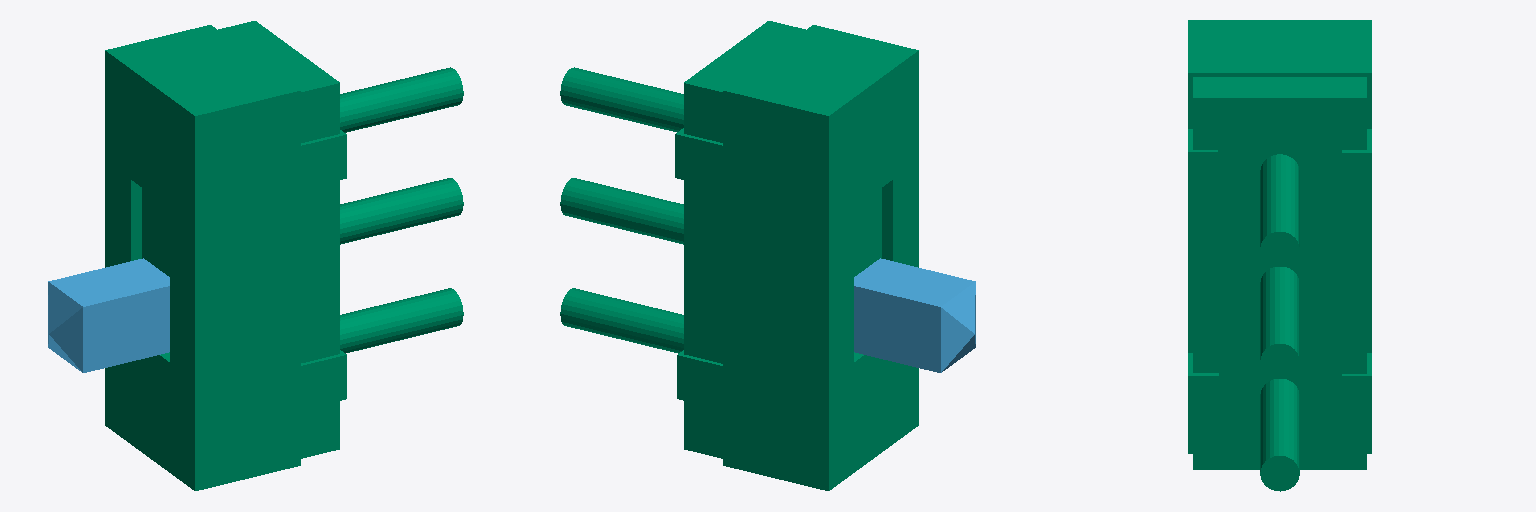
The robot description file, URDF, robot "partnet_228b41e91b3eac5e6eed87081bea555c":
<?xml version="1.0" ?>
<robot name="partnet_228b41e91b3eac5e6eed87081bea555c">
	<link name="base"/>
	<link name="link_0">
		<visual name="switch-1">
			<origin xyz="0 0 0"/>
			<geometry>
				<mesh filename="textured_objs/original-14.obj" scale="0.1 0.1 0.1"/>
			</geometry>
		</visual>
		<collision>
			<origin xyz="0 0 0"/>
			<geometry>
				<mesh filename="textured_objs/original-14.obj" scale="0.1 0.1 0.1"/>
			</geometry>
		</collision>
	</link>
	<joint name="joint_0" type="prismatic">
		<origin xyz="0 0 0"/>
		<axis xyz="0 1 0"/>
		<child link="link_0"/>
		<parent link="link_1"/>
		<limit lower="0" upper="0.2959999999999998"/>
	</joint>
	<link name="link_1">
		<visual name="base_body-2">
			<origin xyz="0 0 0"/>
			<geometry>
				<mesh filename="textured_objs/original-4.obj" scale="0.1 0.1 0.1"/>
			</geometry>
		</visual>
		<visual name="base_body-2">
			<origin xyz="0 0 0"/>
			<geometry>
				<mesh filename="textured_objs/original-3.obj" scale="0.1 0.1 0.1"/>
			</geometry>
		</visual>
		<visual name="base_body-2">
			<origin xyz="0 0 0"/>
			<geometry>
				<mesh filename="textured_objs/original-2.obj" scale="0.1 0.1 0.1"/>
			</geometry>
		</visual>
		<visual name="base_body-2">
			<origin xyz="0 0 0"/>
			<geometry>
				<mesh filename="textured_objs/original-8.obj" scale="0.1 0.1 0.1"/>
			</geometry>
		</visual>
		<visual name="base_body-2">
			<origin xyz="0 0 0"/>
			<geometry>
				<mesh filename="textured_objs/original-13.obj" scale="0.1 0.1 0.1"/>
			</geometry>
		</visual>
		<visual name="base_body-2">
			<origin xyz="0 0 0"/>
			<geometry>
				<mesh filename="textured_objs/original-9.obj" scale="0.1 0.1 0.1"/>
			</geometry>
		</visual>
		<visual name="base_body-2">
			<origin xyz="0 0 0"/>
			<geometry>
				<mesh filename="textured_objs/original-5.obj" scale="0.1 0.1 0.1"/>
			</geometry>
		</visual>
		<visual name="base_body-2">
			<origin xyz="0 0 0"/>
			<geometry>
				<mesh filename="textured_objs/original-6.obj" scale="0.1 0.1 0.1"/>
			</geometry>
		</visual>
		<visual name="base_body-2">
			<origin xyz="0 0 0"/>
			<geometry>
				<mesh filename="textured_objs/original-11.obj" scale="0.1 0.1 0.1"/>
			</geometry>
		</visual>
		<visual name="base_body-2">
			<origin xyz="0 0 0"/>
			<geometry>
				<mesh filename="textured_objs/original-12.obj" scale="0.1 0.1 0.1"/>
			</geometry>
		</visual>
		<visual name="base_body-2">
			<origin xyz="0 0 0"/>
			<geometry>
				<mesh filename="textured_objs/original-7.obj" scale="0.1 0.1 0.1"/>
			</geometry>
		</visual>
		<visual name="base_body-2">
			<origin xyz="0 0 0"/>
			<geometry>
				<mesh filename="textured_objs/original-1.obj" scale="0.1 0.1 0.1"/>
			</geometry>
		</visual>
		<visual name="base_body-2">
			<origin xyz="0 0 0"/>
			<geometry>
				<mesh filename="textured_objs/original-10.obj" scale="0.1 0.1 0.1"/>
			</geometry>
		</visual>
		<collision>
			<origin xyz="0 0 0"/>
			<geometry>
				<mesh filename="textured_objs/original-4.obj" scale="0.1 0.1 0.1"/>
			</geometry>
		</collision>
		<collision>
			<origin xyz="0 0 0"/>
			<geometry>
				<mesh filename="textured_objs/original-3.obj" scale="0.1 0.1 0.1"/>
			</geometry>
		</collision>
		<collision>
			<origin xyz="0 0 0"/>
			<geometry>
				<mesh filename="textured_objs/original-2.obj" scale="0.1 0.1 0.1"/>
			</geometry>
		</collision>
		<collision>
			<origin xyz="0 0 0"/>
			<geometry>
				<mesh filename="textured_objs/original-8.obj" scale="0.1 0.1 0.1"/>
			</geometry>
		</collision>
		<collision>
			<origin xyz="0 0 0"/>
			<geometry>
				<mesh filename="textured_objs/original-13.obj" scale="0.1 0.1 0.1"/>
			</geometry>
		</collision>
		<collision>
			<origin xyz="0 0 0"/>
			<geometry>
				<mesh filename="textured_objs/original-9.obj" scale="0.1 0.1 0.1"/>
			</geometry>
		</collision>
		<collision>
			<origin xyz="0 0 0"/>
			<geometry>
				<mesh filename="textured_objs/original-5.obj" scale="0.1 0.1 0.1"/>
			</geometry>
		</collision>
		<collision>
			<origin xyz="0 0 0"/>
			<geometry>
				<mesh filename="textured_objs/original-6.obj" scale="0.1 0.1 0.1"/>
			</geometry>
		</collision>
		<collision>
			<origin xyz="0 0 0"/>
			<geometry>
				<mesh filename="textured_objs/original-11.obj" scale="0.1 0.1 0.1"/>
			</geometry>
		</collision>
		<collision>
			<origin xyz="0 0 0"/>
			<geometry>
				<mesh filename="textured_objs/original-12.obj" scale="0.1 0.1 0.1"/>
			</geometry>
		</collision>
		<collision>
			<origin xyz="0 0 0"/>
			<geometry>
				<mesh filename="textured_objs/original-7.obj" scale="0.1 0.1 0.1"/>
			</geometry>
		</collision>
		<collision>
			<origin xyz="0 0 0"/>
			<geometry>
				<mesh filename="textured_objs/original-1.obj" scale="0.1 0.1 0.1"/>
			</geometry>
		</collision>
		<collision>
			<origin xyz="0 0 0"/>
			<geometry>
				<mesh filename="textured_objs/original-10.obj" scale="0.1 0.1 0.1"/>
			</geometry>
		</collision>
	</link>
	<joint name="joint_1" type="fixed">
		<origin rpy="1.570796326794897 0 -1.570796326794897" xyz="0 0 0"/>
		<child link="link_1"/>
		<parent link="base"/>
	</joint>
</robot>

--- Render facts (derived) ---
The picture shows the robot from 3 angles, left to right: view 1: azimuth 30°, elevation 25°; view 2: azimuth 150°, elevation 25°; view 3: azimuth 270°, elevation 25°; orthographic projection.
Robot: partnet_228b41e91b3eac5e6eed87081bea555c — 3 links, 2 joints (1 prismatic, 1 fixed); root link base; default pose: all joints at 0.
Visible links, largest first — view 1: link_1, link_0; view 2: link_1, link_0; view 3: link_1.
Boxes of the visible links, box(x1,y1,x2,y2) form: link_1: box(105, 21, 463, 490); link_0: box(48, 258, 169, 372); link_1: box(560, 21, 918, 490); link_0: box(854, 258, 975, 372); link_1: box(1188, 20, 1371, 491).
Size in the robot's own frame: 0.1606 by 0.0619 by 0.1422 metres.
Meshes: 14 distinct files referenced, 14 mesh visuals loaded (14 OBJ).
